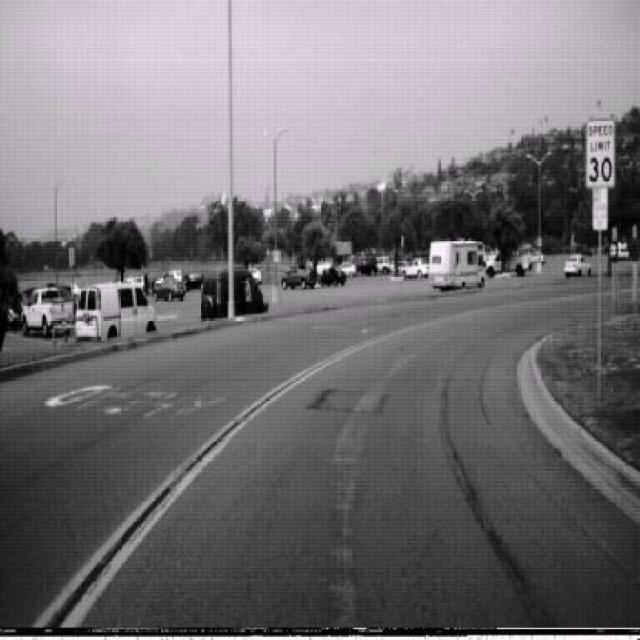speedLimit30: (585, 117, 616, 189)
